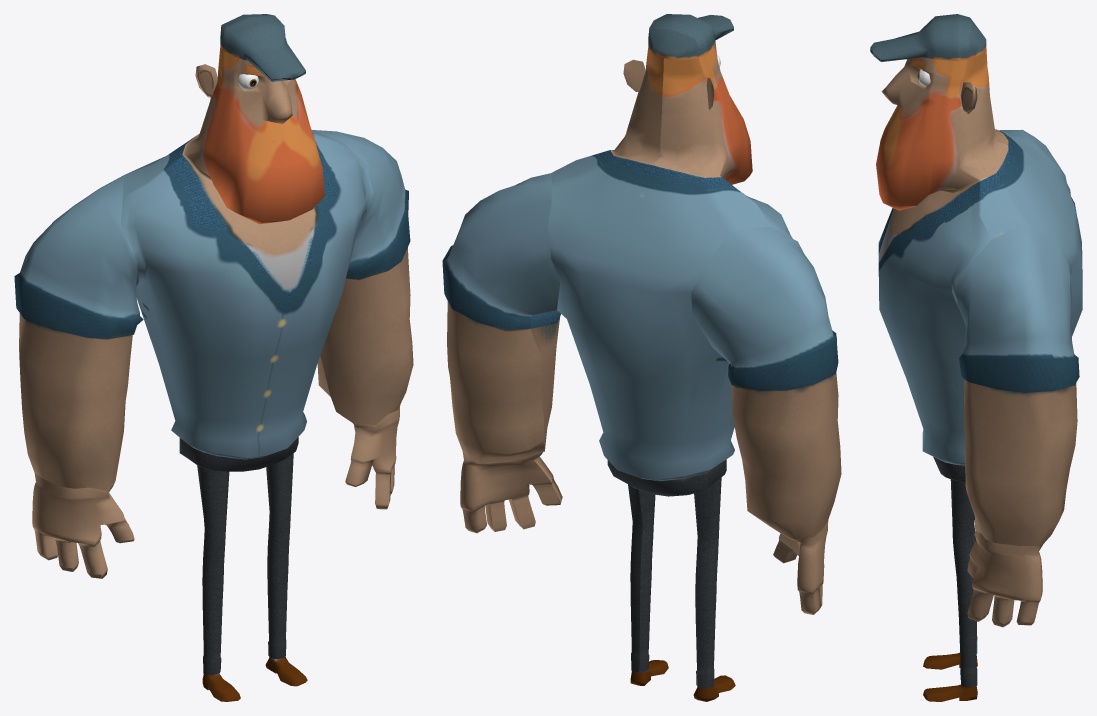
The model's file is security_guard2.glb.
The picture shows the model from 3 angles, left to right: view 1: azimuth 30°, elevation 25°; view 2: azimuth 150°, elevation 25°; view 3: azimuth 270°, elevation 25°; orthographic projection.
Visible parts, largest first — view 1: SecurityGuard_LP; view 2: SecurityGuard_LP; view 3: SecurityGuard_LP.
Part boxes in pixels (<box>): SecurityGuard_LP: <box>14,14,413,701</box>; SecurityGuard_LP: <box>442,14,841,701</box>; SecurityGuard_LP: <box>870,14,1082,701</box>.
Size of the model in its own units: 2.76 by 4.53 by 1.32.
Materials: 1 (1 with a texture image).
